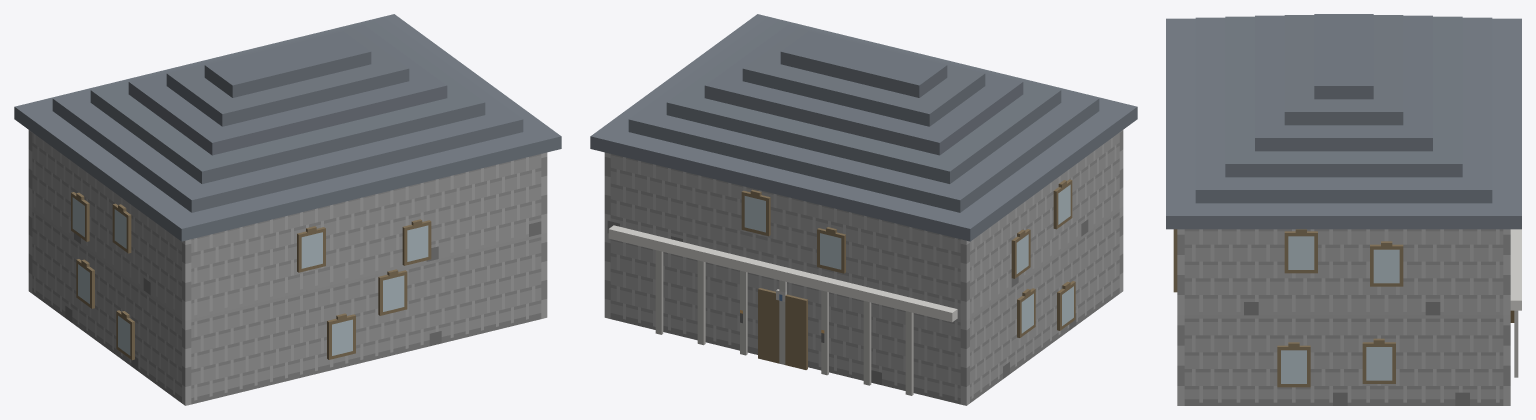
Rendered from gran_archivo_03.glb.
The picture shows the model from 3 angles, left to right: view 1: azimuth 30°, elevation 25°; view 2: azimuth 150°, elevation 25°; view 3: azimuth 270°, elevation 25°; orthographic projection. The views are drawn at different scales.
Parts seen in each view (by area): view 1: gran_archivo_03; view 2: gran_archivo_03; view 3: gran_archivo_03.
Part boxes in pixels (x1,y1,x2,y2): gran_archivo_03: [14, 14, 561, 405]; gran_archivo_03: [590, 14, 1137, 405]; gran_archivo_03: [1166, 14, 1521, 405].
Bounding box in the file's own units: 12.6 × 7.8 × 9.6.
